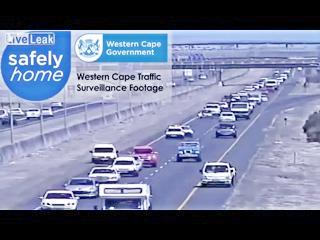Car: (98, 183, 151, 210), (201, 162, 234, 187), (40, 190, 77, 210), (64, 177, 97, 198), (133, 146, 158, 167), (92, 143, 118, 162), (112, 157, 139, 175), (88, 167, 120, 182), (177, 140, 201, 157), (230, 102, 249, 118), (217, 122, 236, 137), (165, 125, 183, 139), (205, 104, 221, 115), (26, 108, 41, 119), (0, 116, 18, 125), (219, 112, 235, 122), (247, 94, 260, 106), (197, 110, 214, 119), (178, 126, 193, 136), (10, 108, 25, 117), (41, 107, 54, 117), (265, 79, 279, 88), (238, 95, 250, 104), (215, 101, 228, 109), (236, 91, 249, 99), (230, 93, 241, 102), (0, 108, 9, 118), (247, 101, 256, 110), (266, 85, 276, 93), (244, 85, 255, 92), (257, 80, 267, 87), (222, 95, 232, 102), (198, 73, 207, 80), (261, 95, 269, 102), (279, 76, 287, 83), (52, 102, 63, 107), (252, 83, 261, 89), (273, 71, 280, 78), (187, 76, 194, 82), (284, 70, 291, 74)
Not Accident: (199, 73, 288, 126), (86, 141, 158, 181)
